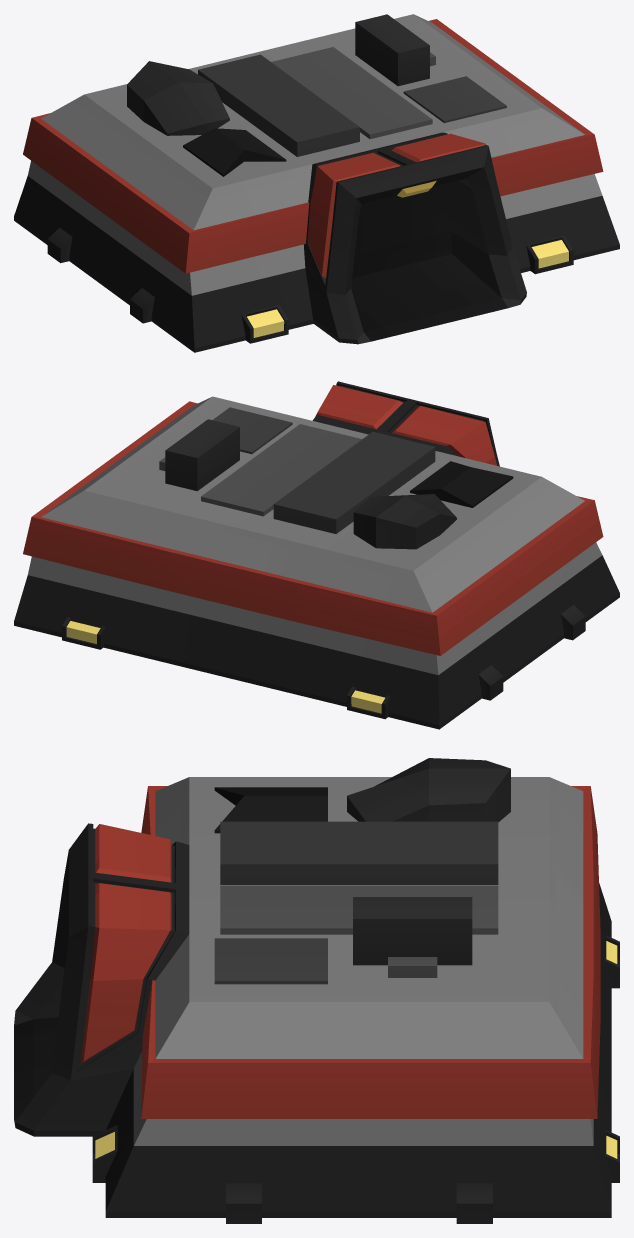
The model's file is Barracks.obj.
3 views of the same model, one above another, from view 1: azimuth 30°, elevation 25°; view 2: azimuth 150°, elevation 25°; view 3: azimuth 270°, elevation 25° (orthographic). The views are drawn at different scales.
Parts seen in each view (by area): view 1: Barracks; view 2: Barracks; view 3: Barracks.
Boxes of the visible parts, x1=… form: Barracks: x1=14, y1=14, x2=619, y2=352; Barracks: x1=14, y1=381, x2=619, y2=729; Barracks: x1=14, y1=758, x2=619, y2=1223.
Size of the model in its own units: 31.73 by 11.22 by 26.84.
